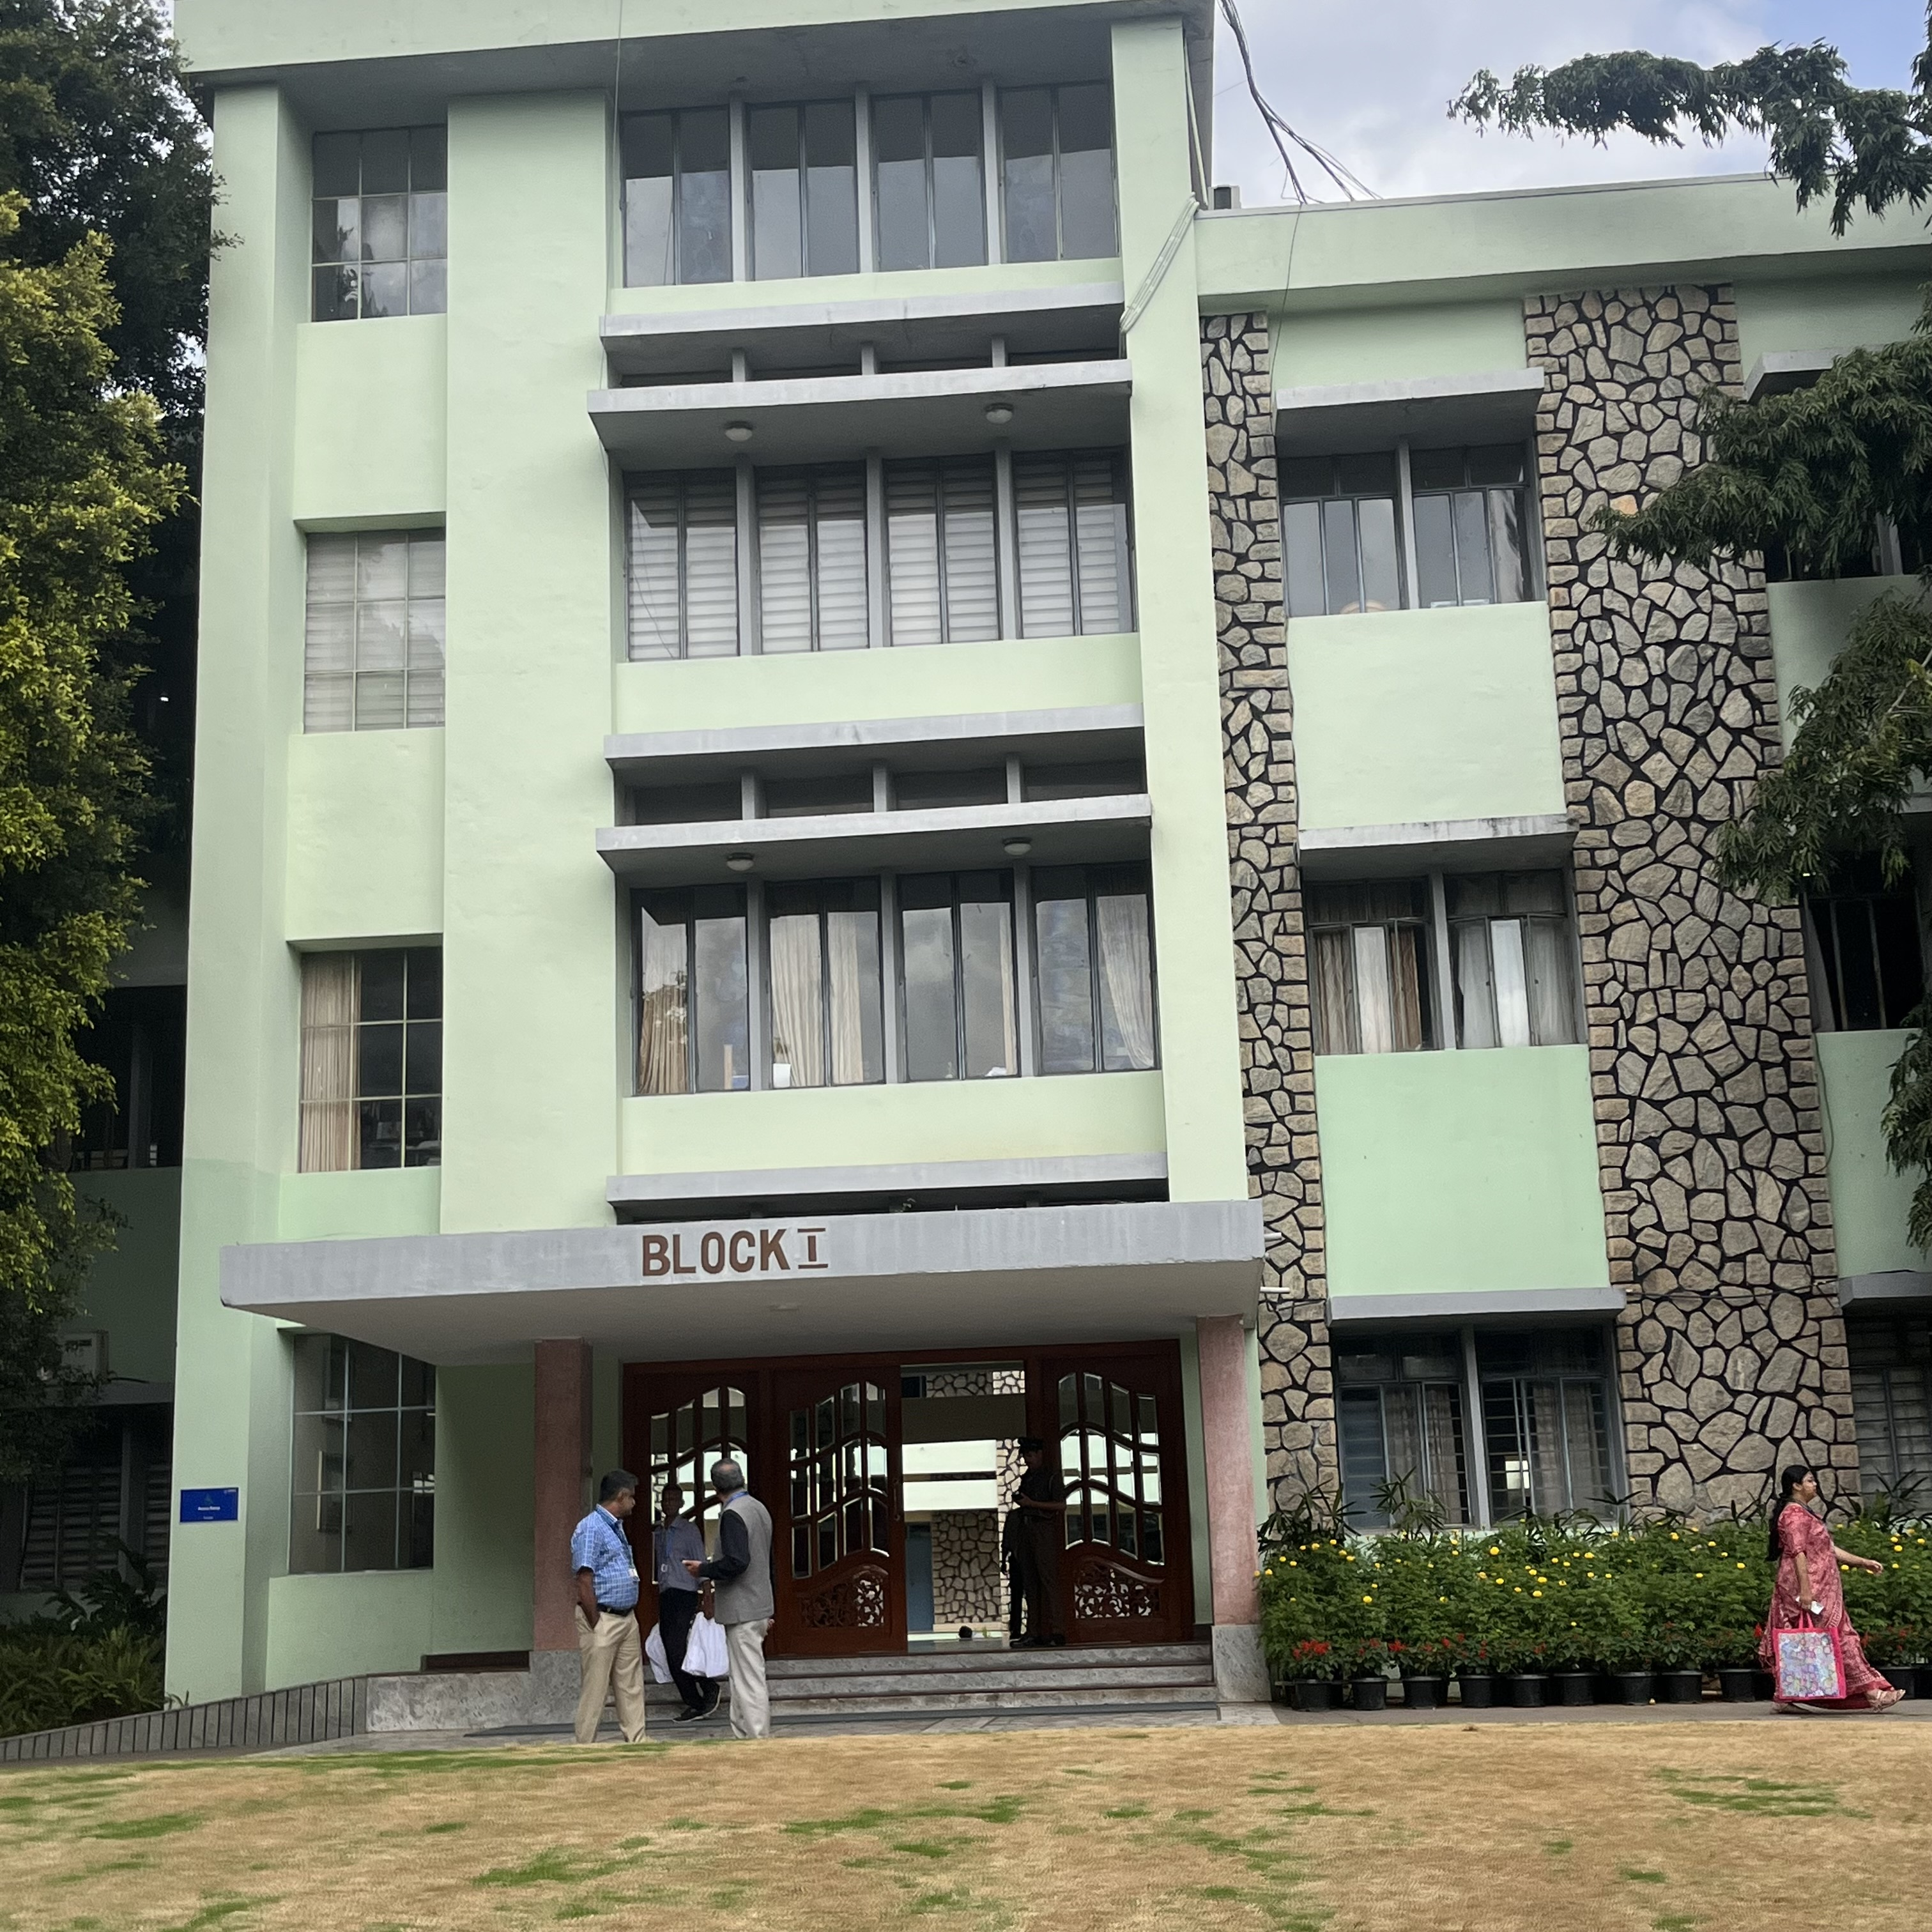Block 1: (188, 14, 1877, 1617)
